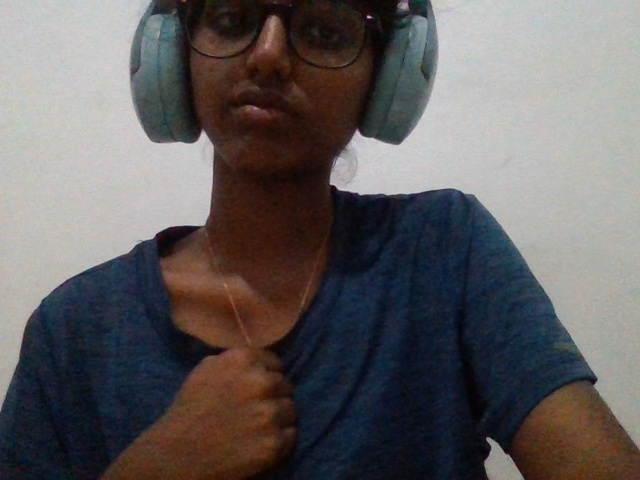Sorry: (105, 314, 338, 480)
